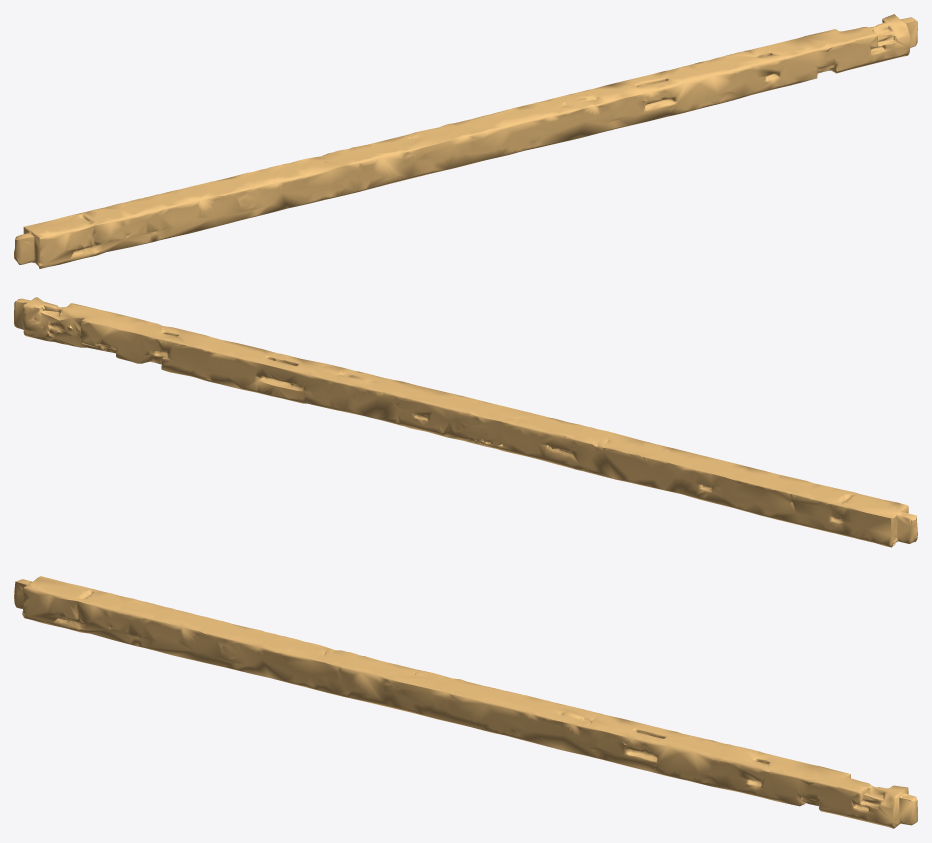
The picture shows the model from 3 angles, top to bottom: view 1: azimuth 30°, elevation 25°; view 2: azimuth 150°, elevation 25°; view 3: azimuth 330°, elevation 25°; orthographic projection.
Visible parts, largest first — view 1: Object_2; view 2: Object_2; view 3: Object_2.
Part boxes in pixels (box(x1,y1,x2,y2)): Object_2: box(14, 14, 917, 268); Object_2: box(14, 297, 917, 547); Object_2: box(14, 576, 917, 828).
Bounding box in the file's own units: 1 × 0.0347 × 0.0372.
